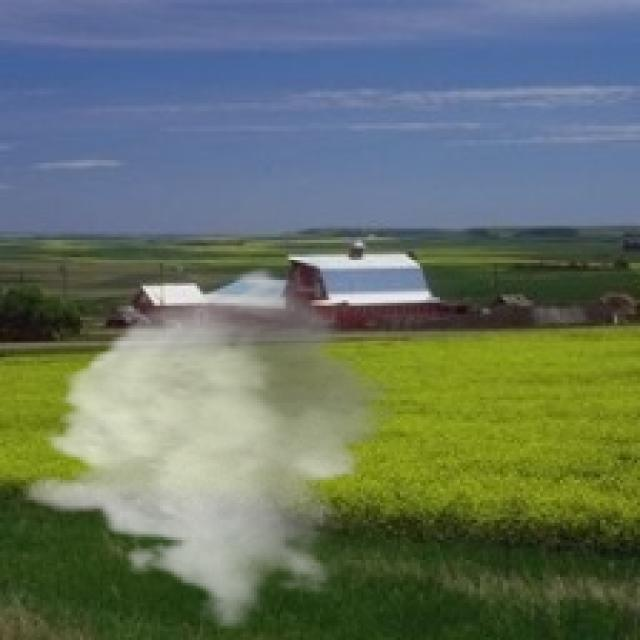smoke: (17, 266, 403, 631)
